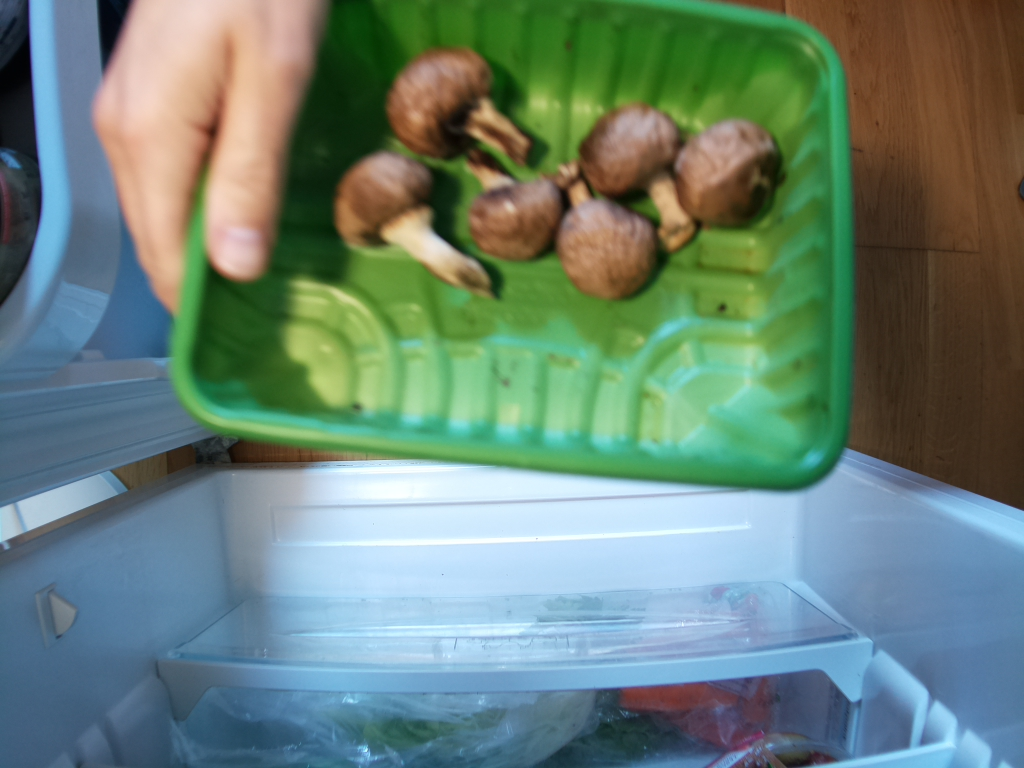mushrooms-bad: (169, 1, 857, 502)
